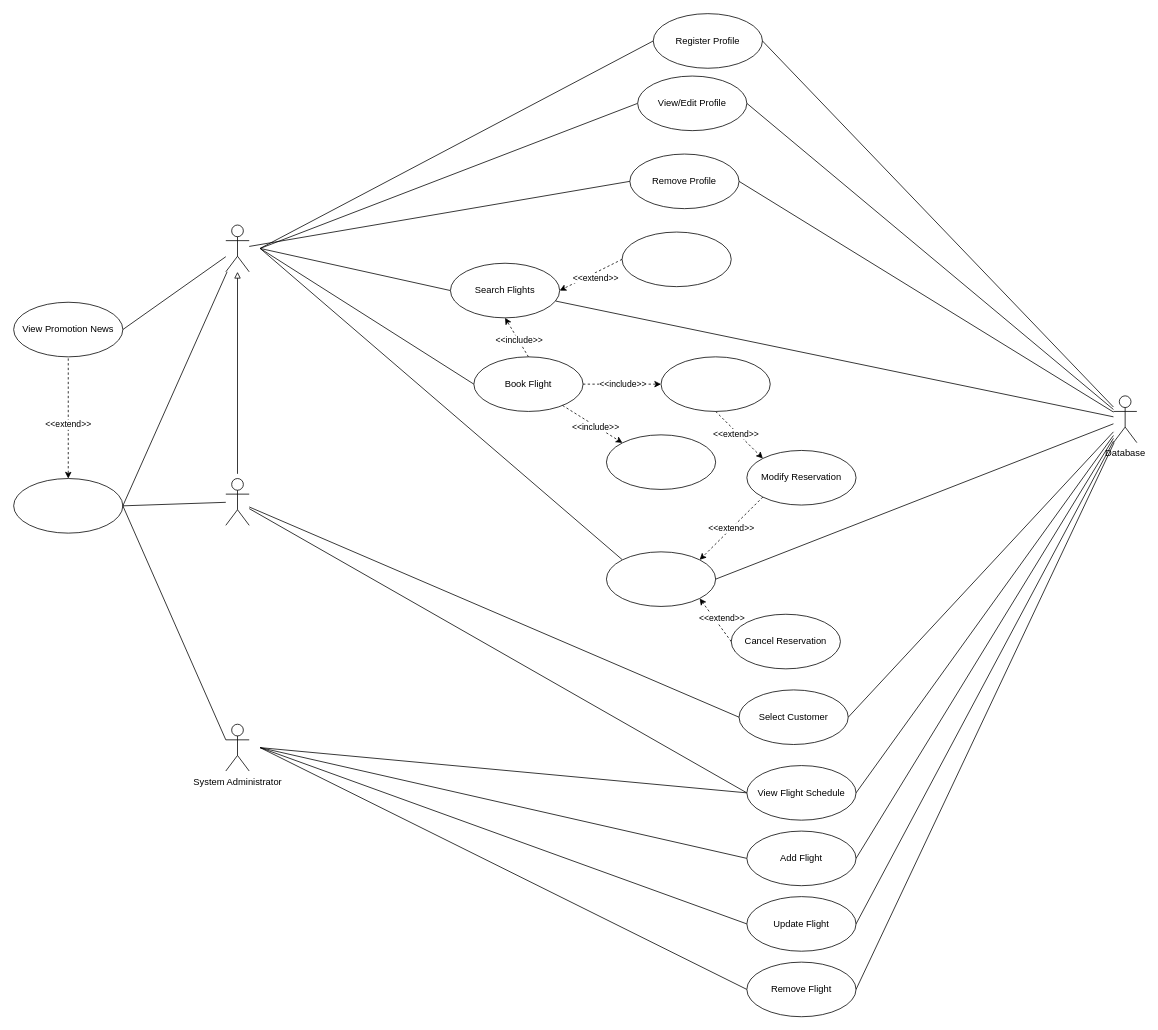
Image size: 1158x1030. Some labels were removed from this diagram. Here are the shapes that lost their labels. From the top down, the centre of each, then its label:
At (237,248): "Customer".
At (676,259): "View Flight Details".
At (715,383): "Make Transaction".
At (661,461): "Receive Booking Confirmation".
At (68,505): "Login".
At (237,501): "Flight Agent".
At (661,578): "View Reservations".
